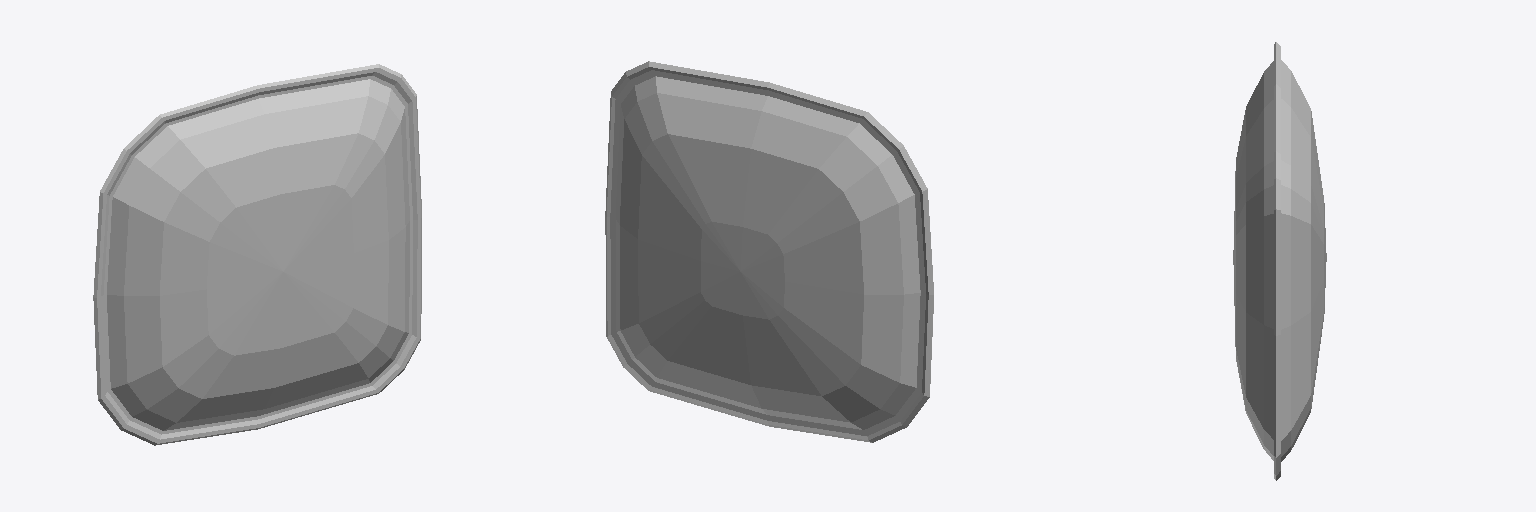
Rendered from beanbag04Scarlet.obj.
3 renders of one model, left to right at view 1: azimuth 30°, elevation 25°; view 2: azimuth 150°, elevation 25°; view 3: azimuth 270°, elevation 25°, orthographic.
Parts seen in each view (by area): view 1: Cube_Cube.001; view 2: Cube_Cube.001; view 3: Cube_Cube.001.
Part boxes in pixels (x1,y1,x2,y2): Cube_Cube.001: (93,64,421,445); Cube_Cube.001: (605,61,933,442); Cube_Cube.001: (1233,42,1326,480).
Size of the model in its own units: 202 by 202 by 49.66.